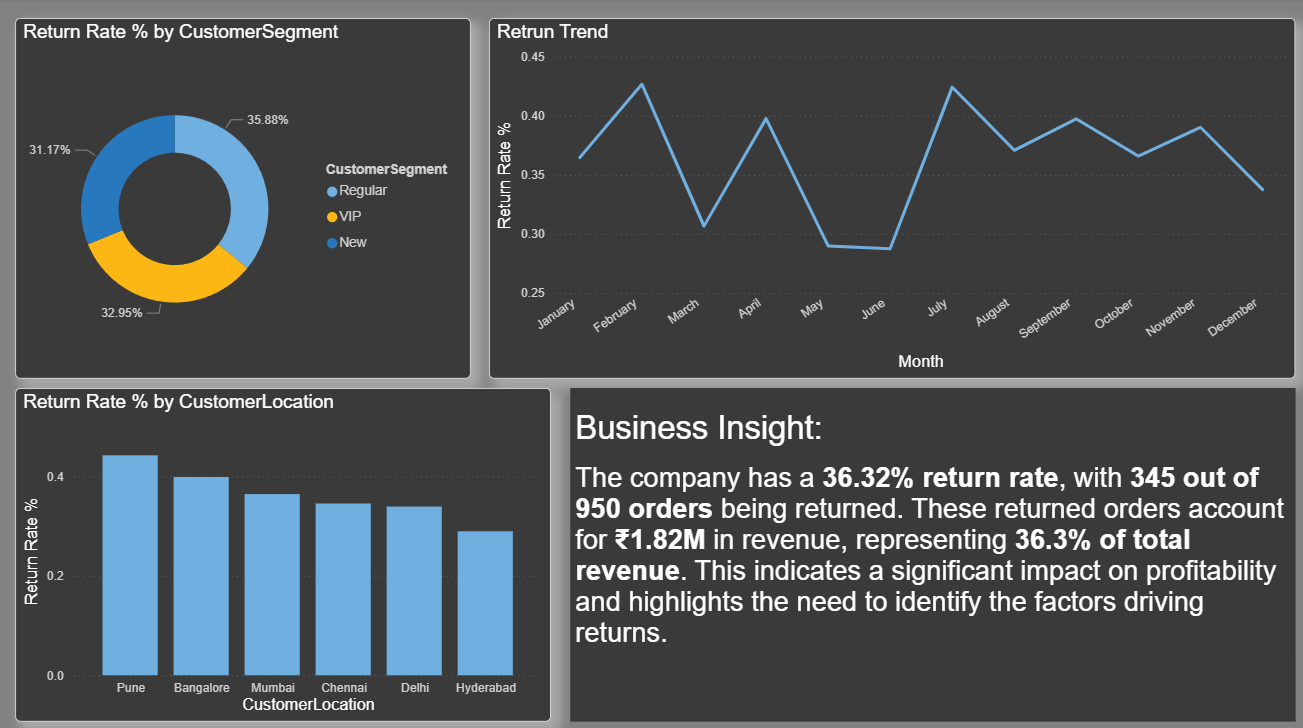

The dashboard page shown, as its layout file describes it:
{"tool":"powerbi","page":{"name":"Product Return Analysis 2","canvas":[1280,720],"ordinal":3},"visuals":[{"type":"donutChart","fields":{"Category":["ecommerce_messy_data (1).CustomerSegment"],"Y":["ecommerce_messy_data (1).Return Rate %"]},"box":[16.5,19.2,446,352.7],"z":0},{"type":"lineChart","title":"Retrun Trend","fields":{"Category":["ecommerce_messy_data (1).OrderDate.Variation.Date Hierarchy.Month"],"Y":["ecommerce_messy_data (1).Return Rate %"]},"box":[478.9,19.2,789,352.7],"z":1000},{"type":"columnChart","fields":{"Category":["ecommerce_messy_data (1).CustomerLocation"],"Y":["ecommerce_messy_data (1).Return Rate %"]},"box":[16.5,381.5,524.2,326.6],"z":2000},{"type":"textbox","box":[558.5,381.5,709.4,326.6],"z":3000}]}

Visuals, with their boxes in screenshot pixels (x1, y1, x2, y2), scaled from the page's 1280x720 canvas onto the 1303x728 screenshot:
donutChart - ecommerce_messy_data (1).CustomerSegment x ecommerce_messy_data (1).Return Rate %: 17,19,471,376
"Retrun Trend" lineChart: 488,19,1291,376
columnChart - ecommerce_messy_data (1).CustomerLocation x ecommerce_messy_data (1).Return Rate %: 17,386,550,716
textbox: 569,386,1291,716
